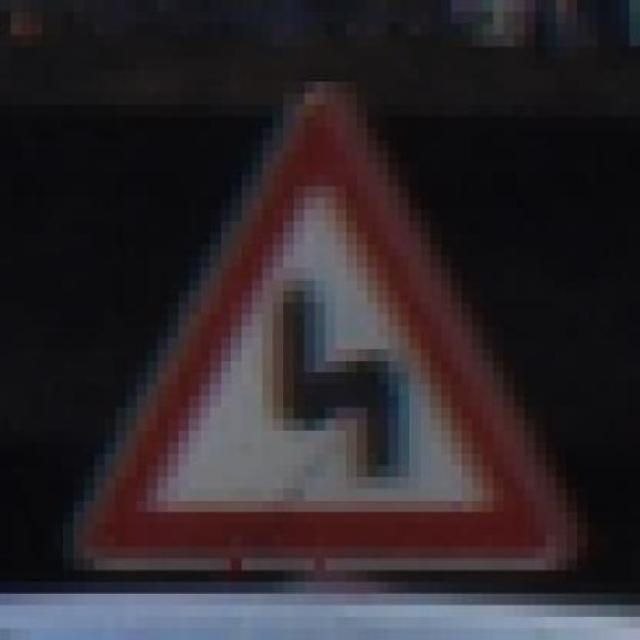Left Zig Zag Traffic: (63, 82, 588, 570)
